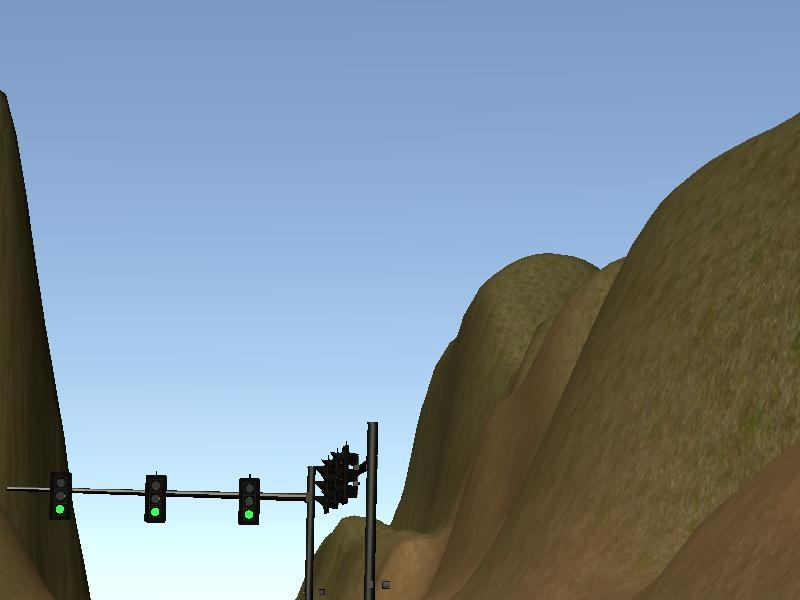GREEN: (48, 472, 74, 522), (145, 475, 167, 523), (238, 478, 260, 526)
